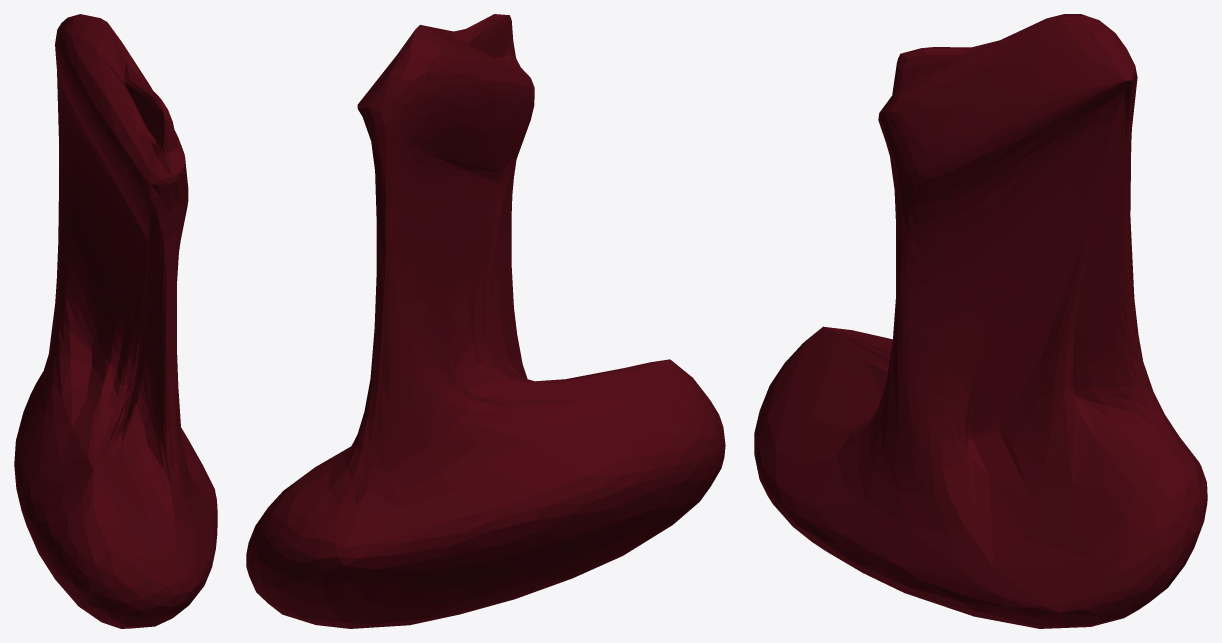
3 renders of one model, left to right at view 1: azimuth 30°, elevation 25°; view 2: azimuth 150°, elevation 25°; view 3: azimuth 270°, elevation 25°, orthographic. The views are drawn at different scales.
Visible parts, largest first — view 1: 445_Cube.1803; view 2: 445_Cube.1803; view 3: 445_Cube.1803.
Part boxes in pixels (left/top/right/bottom): 445_Cube.1803: left=14, top=14, right=217, bottom=628; 445_Cube.1803: left=246, top=14, right=725, bottom=628; 445_Cube.1803: left=754, top=14, right=1207, bottom=628.
Bounding box in the file's own units: 7.41 × 14.2 × 9.97.
